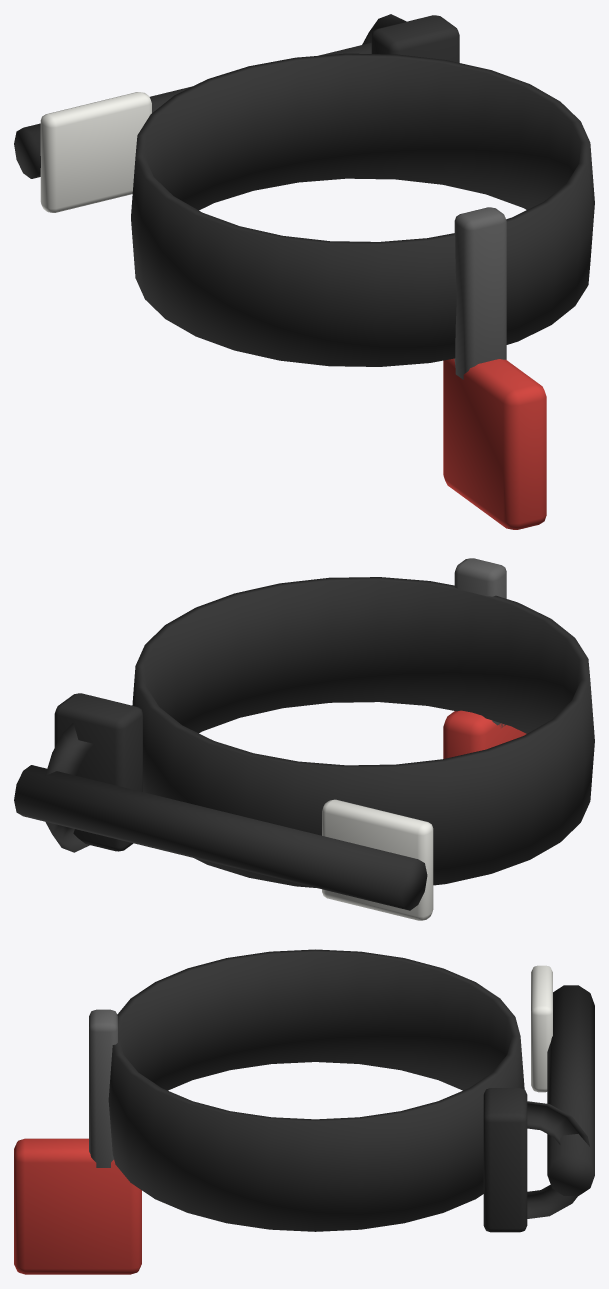
The model's file is CAT_Tourniquet.fbx.
3 views of the same model, one above another, from view 1: azimuth 30°, elevation 25°; view 2: azimuth 150°, elevation 25°; view 3: azimuth 270°, elevation 25° (orthographic). The views are drawn at different scales.
Parts seen in each view (by area): view 1: CAT_Band, CAT_RedTip, CAT_TimeStrap, CAT_Buckle, CAT_Clip, CAT_Windlass; view 2: CAT_Band, CAT_Windlass, CAT_Clip, CAT_TimeStrap, CAT_RedTip, CAT_Buckle; view 3: CAT_Band, CAT_RedTip, CAT_Clip, CAT_Windlass, CAT_Buckle, CAT_TimeStrap.
Part boxes in pixels (bbox=[...]): CAT_Band: bbox=[131, 53, 594, 366]; CAT_RedTip: bbox=[443, 358, 546, 529]; CAT_TimeStrap: bbox=[40, 92, 151, 212]; CAT_Buckle: bbox=[454, 207, 506, 379]; CAT_Clip: bbox=[362, 14, 459, 62]; CAT_Windlass: bbox=[14, 42, 371, 178]; CAT_Band: bbox=[132, 577, 594, 887]; CAT_Windlass: bbox=[14, 765, 427, 910]; CAT_Clip: bbox=[45, 693, 142, 852]; CAT_TimeStrap: bbox=[322, 799, 433, 920]; CAT_RedTip: bbox=[443, 710, 526, 758]; CAT_Buckle: bbox=[454, 558, 506, 727]; CAT_Band: bbox=[108, 949, 524, 1231]; CAT_RedTip: bbox=[14, 1138, 141, 1274]; CAT_Clip: bbox=[483, 1088, 589, 1232]; CAT_Windlass: bbox=[547, 985, 594, 1195]; CAT_Buckle: bbox=[89, 1009, 117, 1167]; CAT_TimeStrap: bbox=[531, 965, 552, 1092].
Bounding box in the file's own units: 0.1146 × 0.0765 × 0.159.
